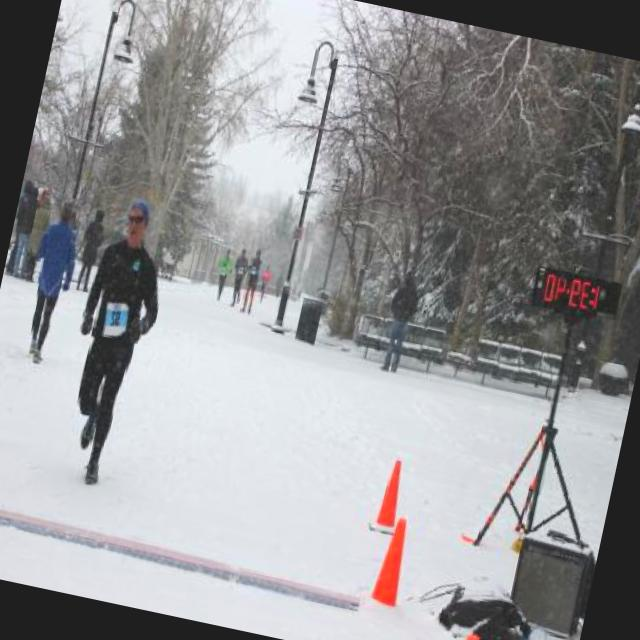Person: (43, 186, 175, 487), (12, 195, 88, 358), (378, 266, 423, 372), (71, 204, 109, 290), (8, 185, 42, 275), (22, 198, 56, 284), (6, 184, 28, 268), (242, 252, 266, 313), (210, 246, 236, 300), (228, 249, 250, 306), (258, 266, 276, 302)
